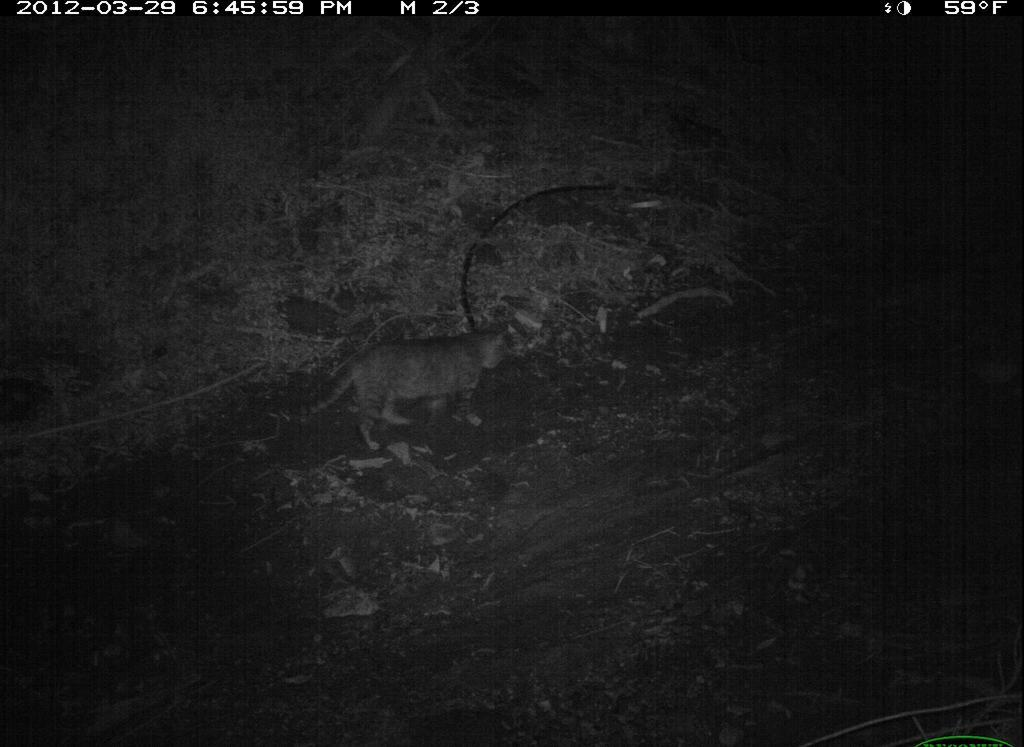cat: (285, 321, 536, 459)
